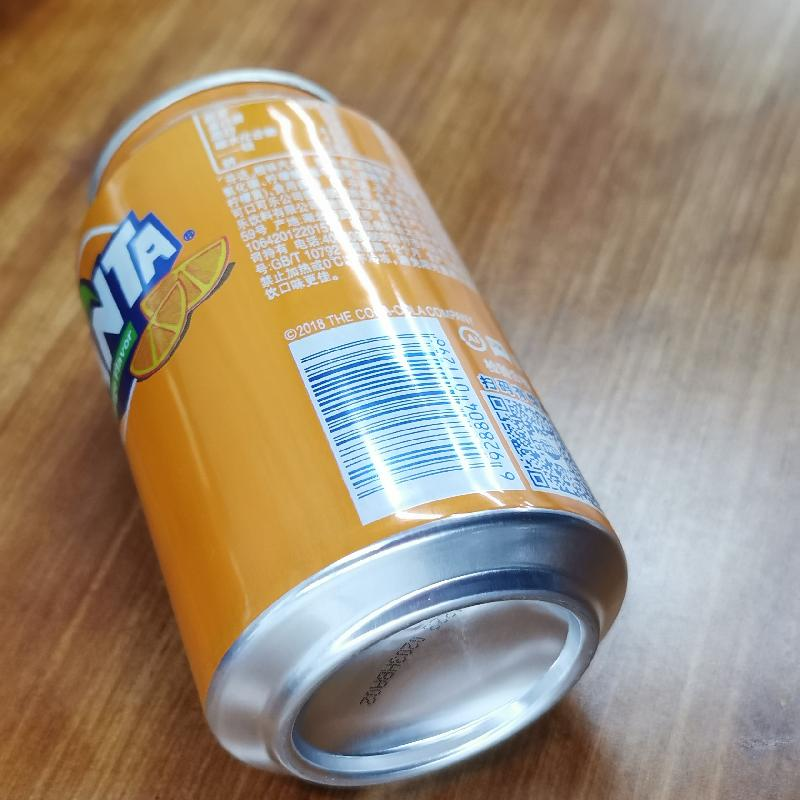cans: (63, 67, 631, 800)
